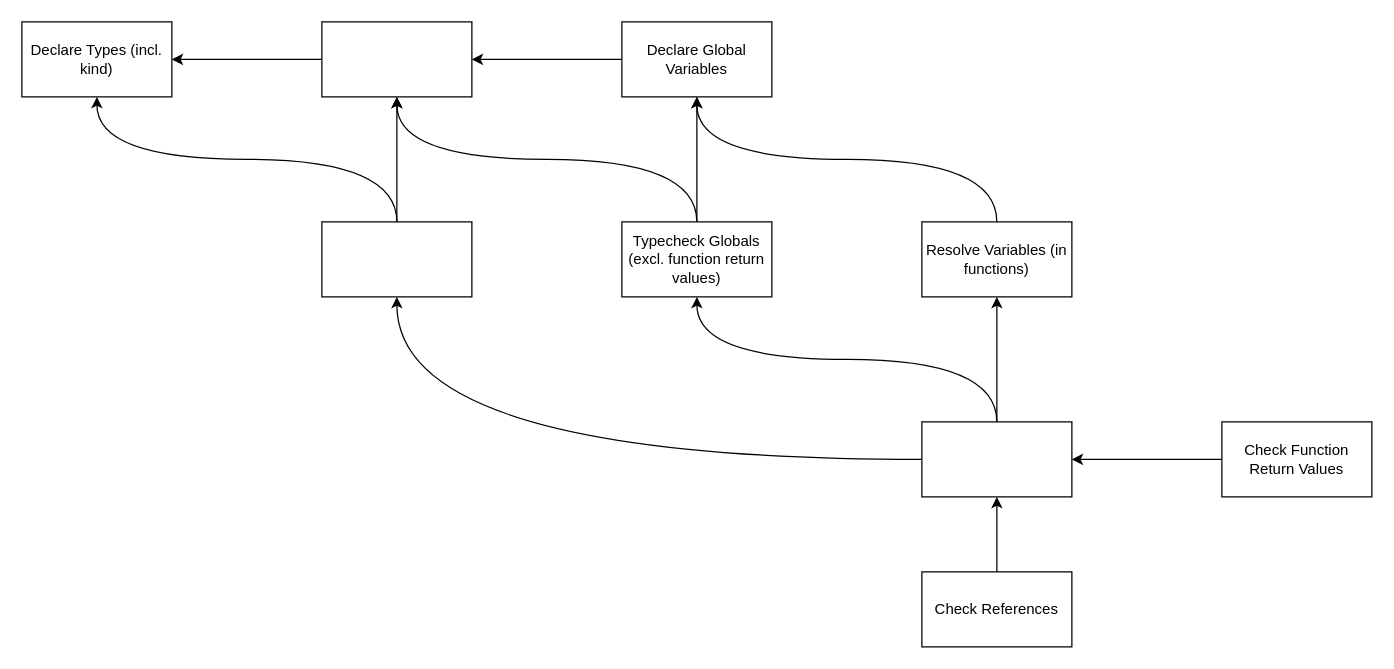
This 1394x669 diagram has some shape labels left out. The centre of each missing label's shape, as x and y in pixels:
"Define Types" belongs at (x=396, y=259).
"Resolve Types" belongs at (x=396, y=59).
"Typecheck Functions" belongs at (x=996, y=459).
